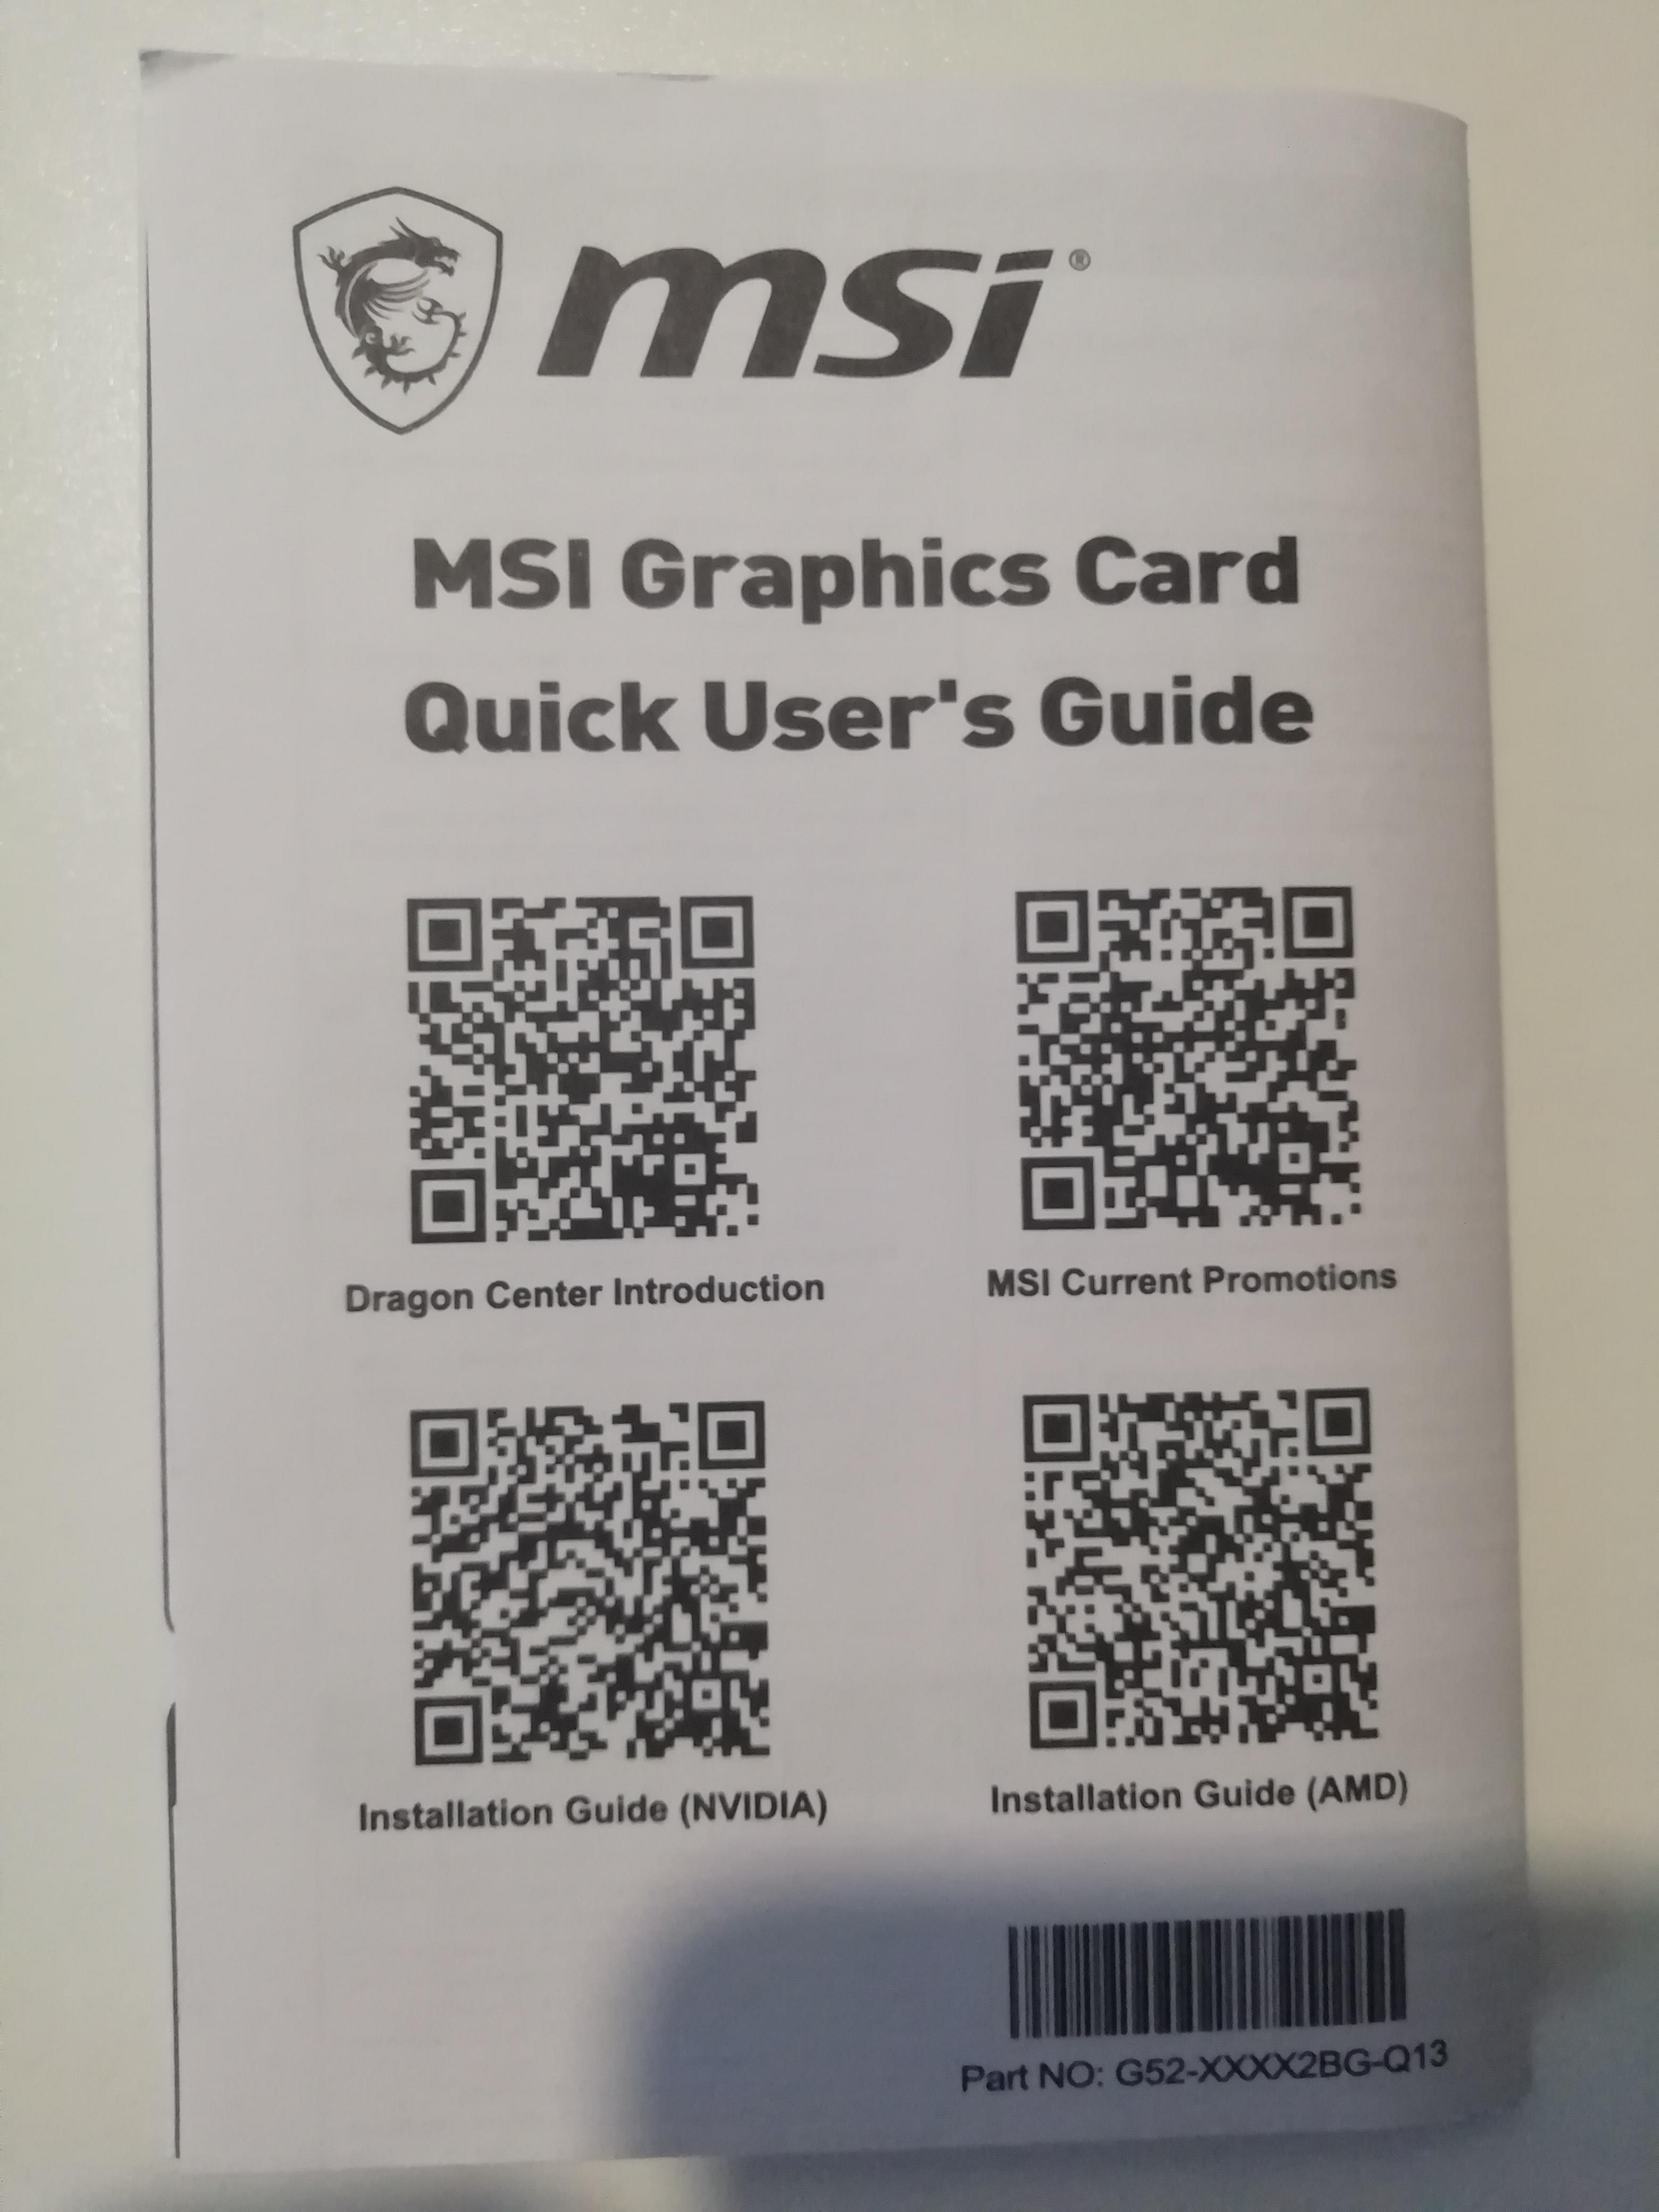qrcode: (410, 1397, 774, 1771), (1021, 1388, 1384, 1756), (408, 894, 763, 1247), (1014, 887, 1364, 1235)
